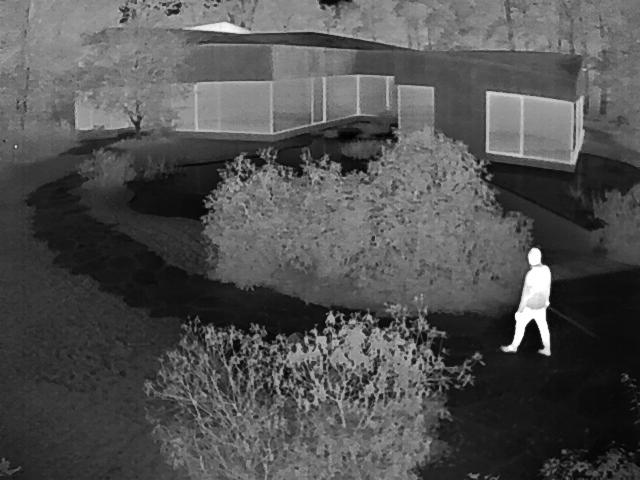person: (504, 248, 553, 353)
